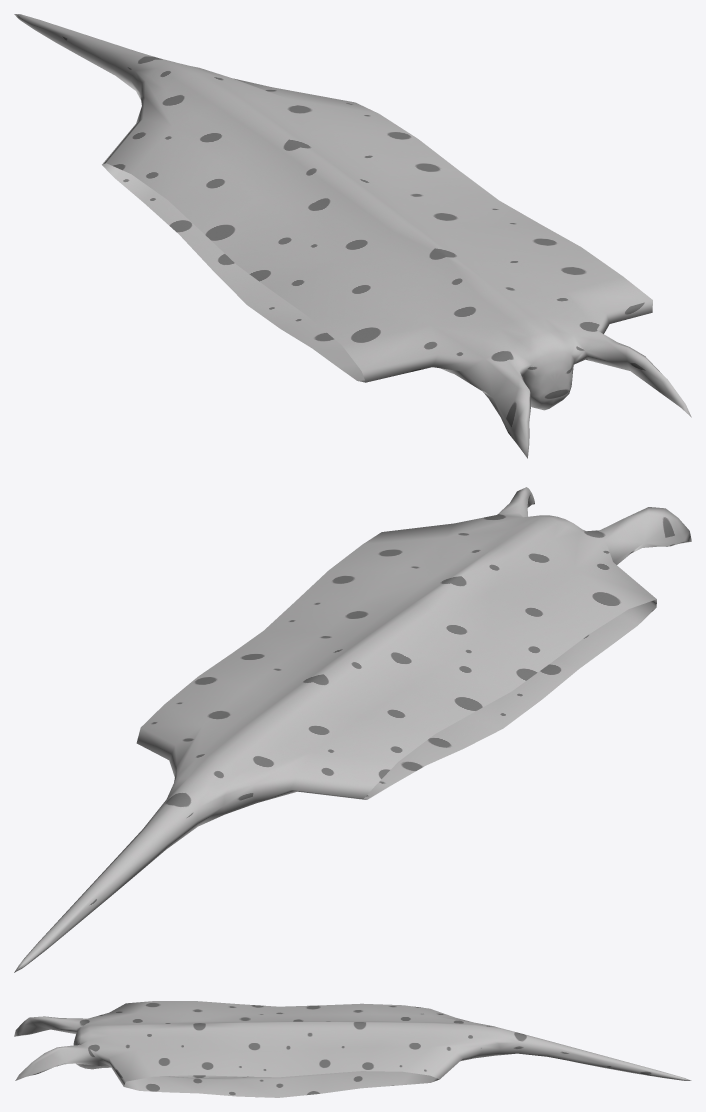
The model's file is cuerpoManta2.obj.
The picture shows the model from 3 angles, top to bottom: view 1: azimuth 30°, elevation 25°; view 2: azimuth 150°, elevation 25°; view 3: azimuth 270°, elevation 25°; orthographic projection. The views are drawn at different scales.
Visible parts, largest first — view 1: cuerpoManta1:Box01; view 2: cuerpoManta1:Box01; view 3: cuerpoManta1:Box01.
Part boxes in pixels (bbox=[...]): cuerpoManta1:Box01: bbox=[14, 14, 691, 458]; cuerpoManta1:Box01: bbox=[14, 487, 691, 972]; cuerpoManta1:Box01: bbox=[14, 1001, 691, 1097].
Bounding box in the file's own units: 3.3 × 1.05 × 12.06.
1 material, 1 textured.
